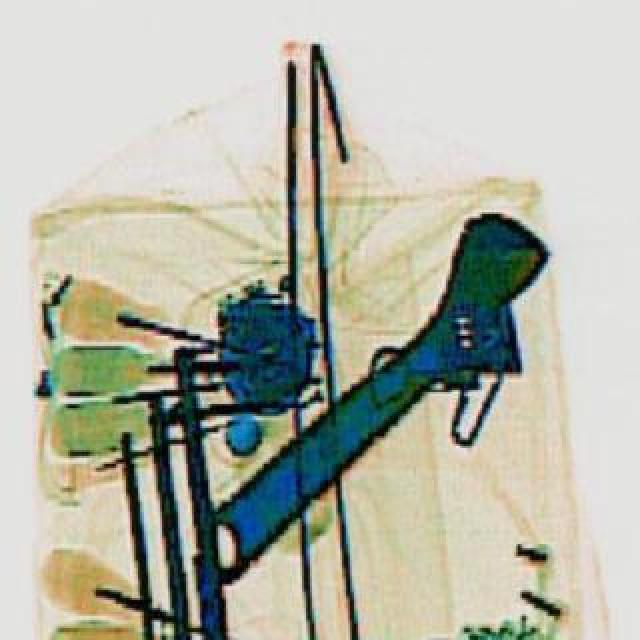scissors: (144, 200, 600, 628)
